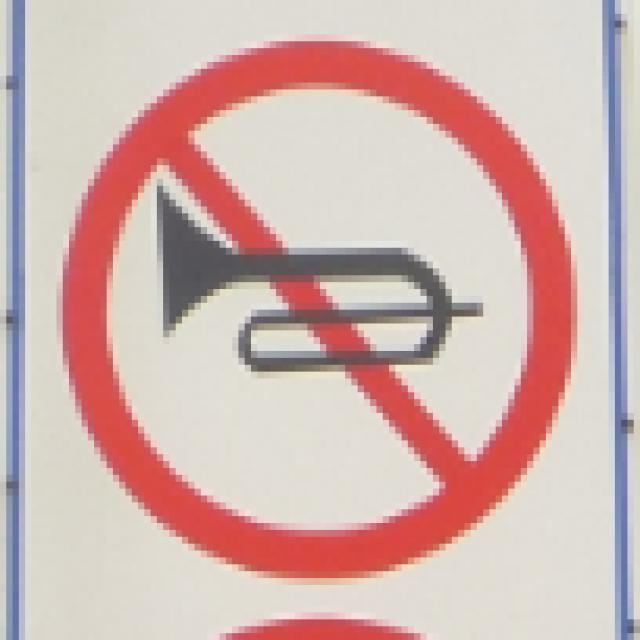No Horn: (67, 17, 583, 587)
